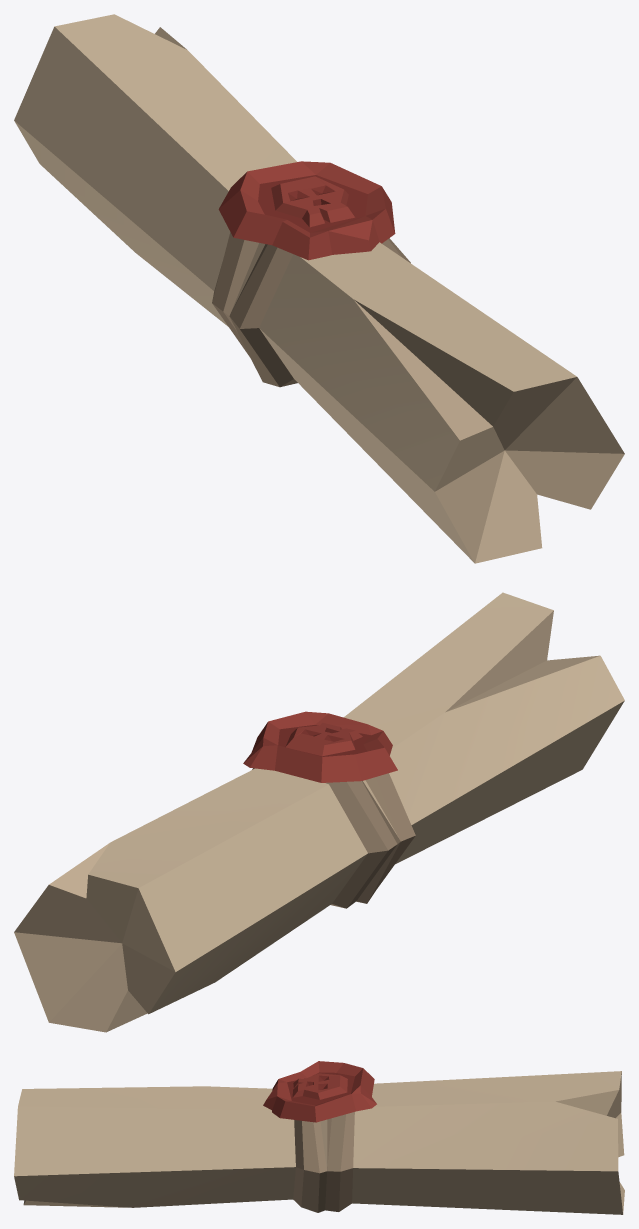
File: SM_Prop_Scroll_01.fbx
3 views of the same model, one above another, from view 1: azimuth 30°, elevation 25°; view 2: azimuth 150°, elevation 25°; view 3: azimuth 270°, elevation 25° (orthographic). The views are drawn at different scales.
Visible parts, largest first — view 1: SM_Prop_Scroll_01; view 2: SM_Prop_Scroll_01; view 3: SM_Prop_Scroll_01.
Boxes of the visible parts, box(x1,y1,x2,y2) form: SM_Prop_Scroll_01: box(14, 14, 624, 563); SM_Prop_Scroll_01: box(14, 592, 624, 1032); SM_Prop_Scroll_01: box(14, 1061, 624, 1214).
Bounding box in the file's own units: 17.57 × 14.86 × 64.58.
